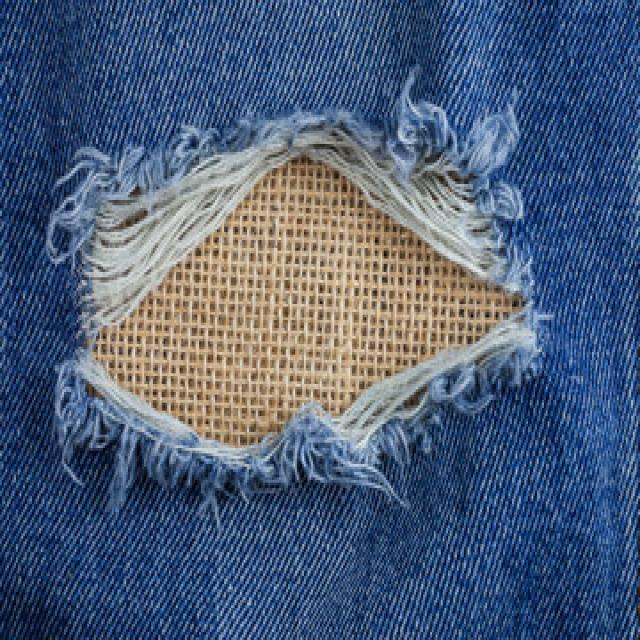Hole: (47, 71, 540, 507)
